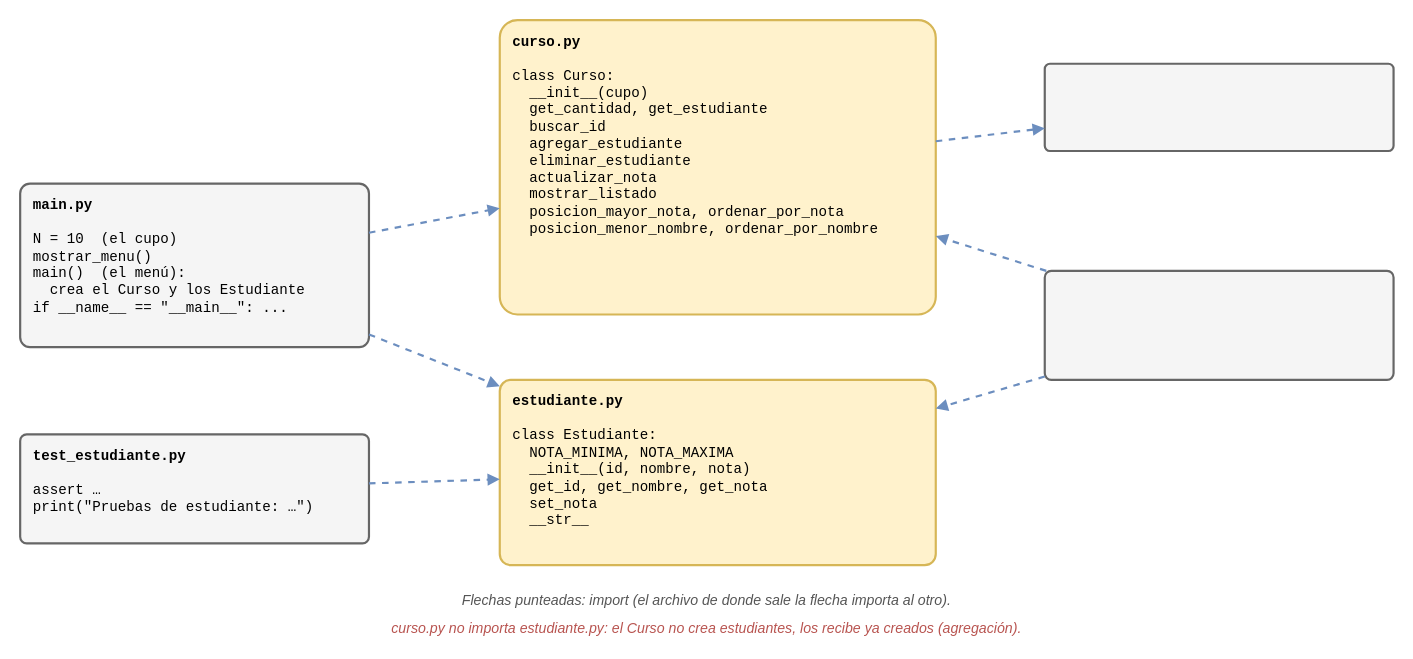
This 1413x659 diagram has some shape labels left out. The centre of each missing label's shape, as x and y in pixels:
ordenamientos.py intercambiar(lista, i, j): [1218,107]
test_curso.py assert … print("Pruebas de curso: …"): [1218,324]
